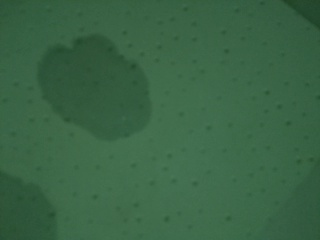Water_detected: (46, 46, 138, 130), (0, 177, 57, 240)
